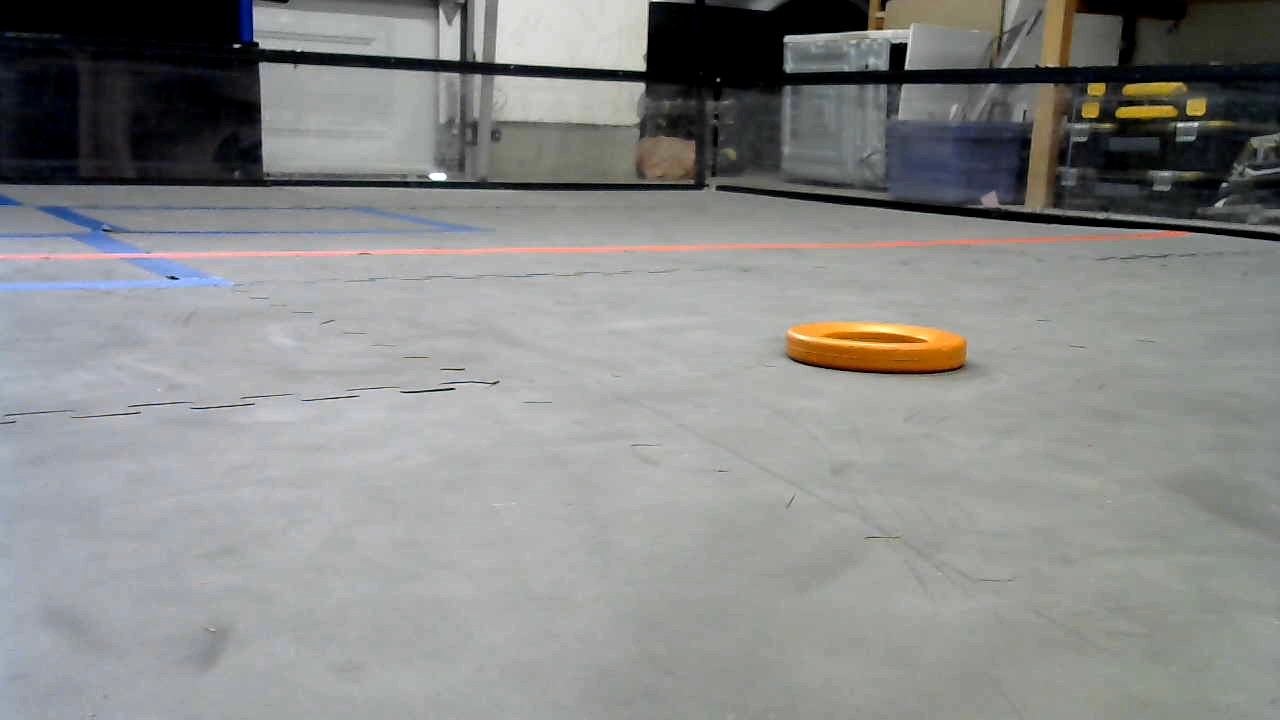OneStack: (784, 322, 969, 375)
